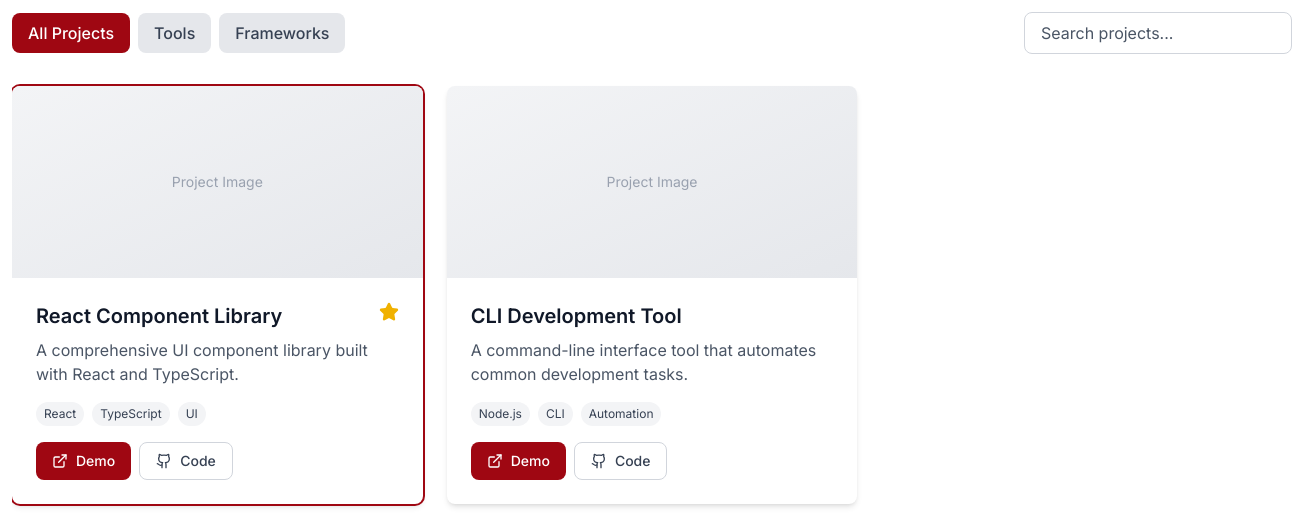
it: ShowcaseGrid › filters items by search term
Type "React" into the field with placeholder "Search projects..." at (1158, 33), box left=1024, top=12, right=1292, bottom=54
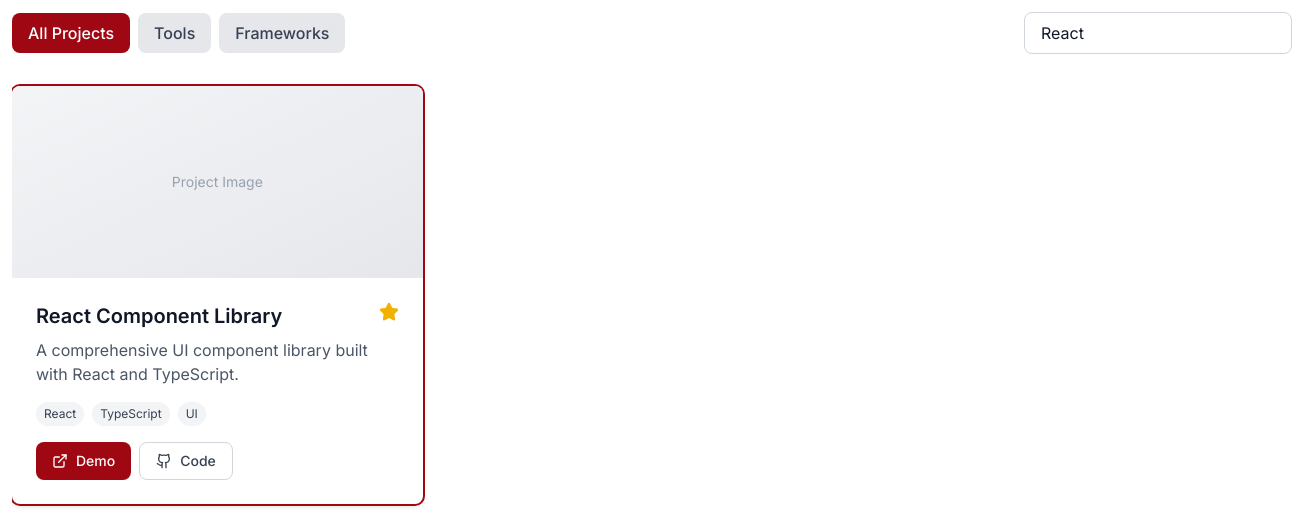
Expected: the heading "React Component Library" is shown, left=36, top=302, right=282, bottom=330
Result: the heading "CLI Development Tool" is gone
